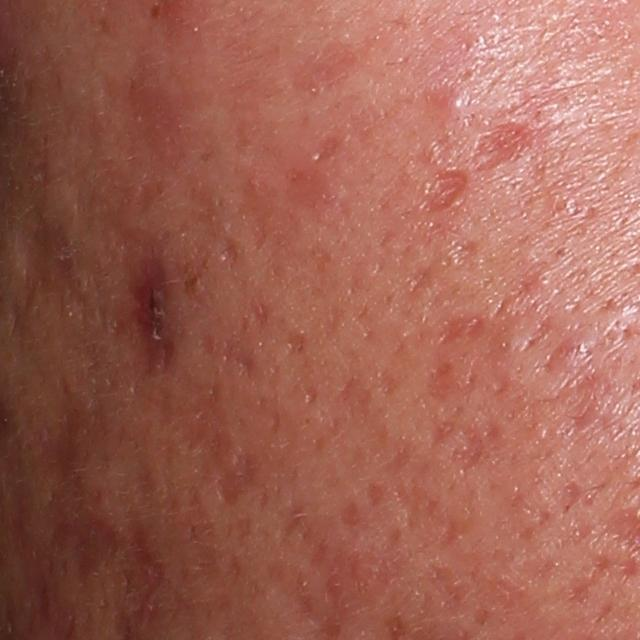atrophic_scar: (124, 255, 180, 377), (469, 121, 539, 176), (202, 336, 261, 387), (212, 444, 260, 506), (417, 166, 477, 215), (443, 424, 487, 477), (434, 312, 489, 347), (439, 237, 492, 269), (310, 135, 345, 161)
